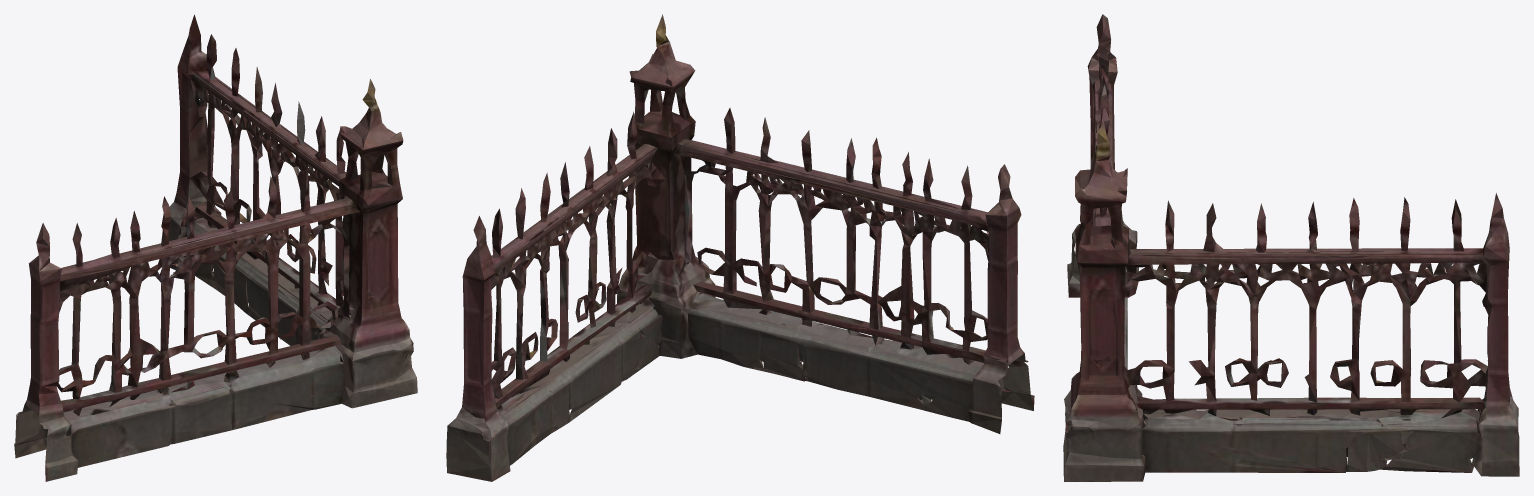
File: park_fence_corner_1117.glb
3 views of the same model, side by side, from view 1: azimuth 30°, elevation 25°; view 2: azimuth 150°, elevation 25°; view 3: azimuth 270°, elevation 25° (orthographic). The views are drawn at different scales.
Parts seen in each view (by area): view 1: geometry_0; view 2: geometry_0; view 3: geometry_0.
Boxes of the visible parts, bbox=[...] form: geometry_0: bbox=[14, 14, 417, 481]; geometry_0: bbox=[446, 14, 1034, 481]; geometry_0: bbox=[1063, 14, 1519, 481].
Bounding box in the file's own units: 1.25 × 1 × 1.2.
Materials: 1 (1 with a texture image).
